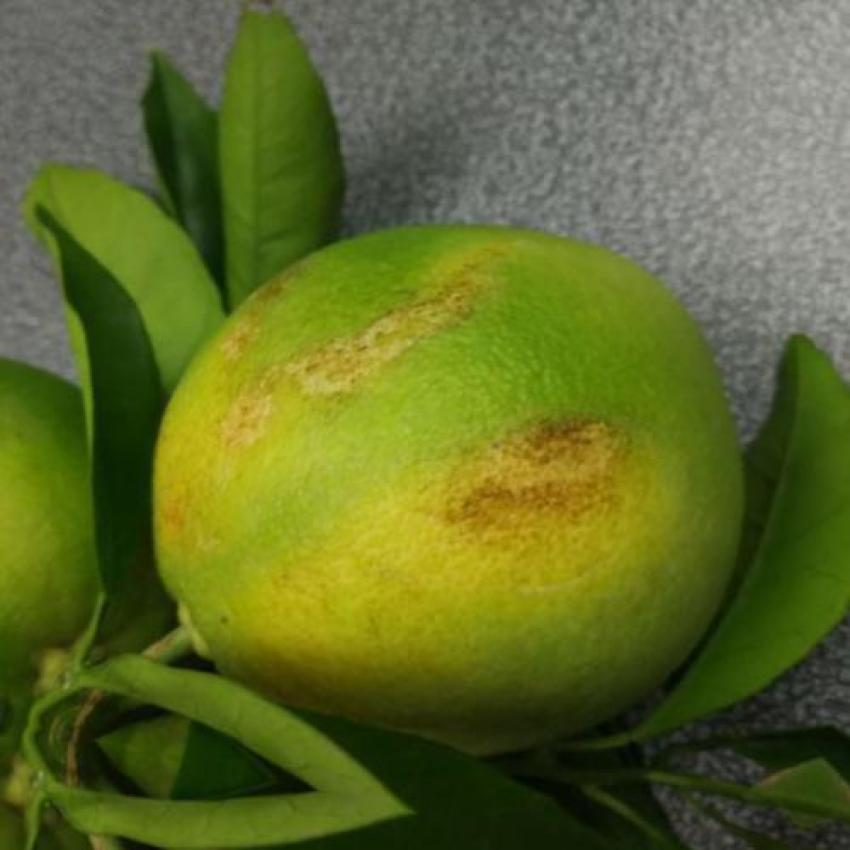Mal estado: (124, 195, 742, 759)
